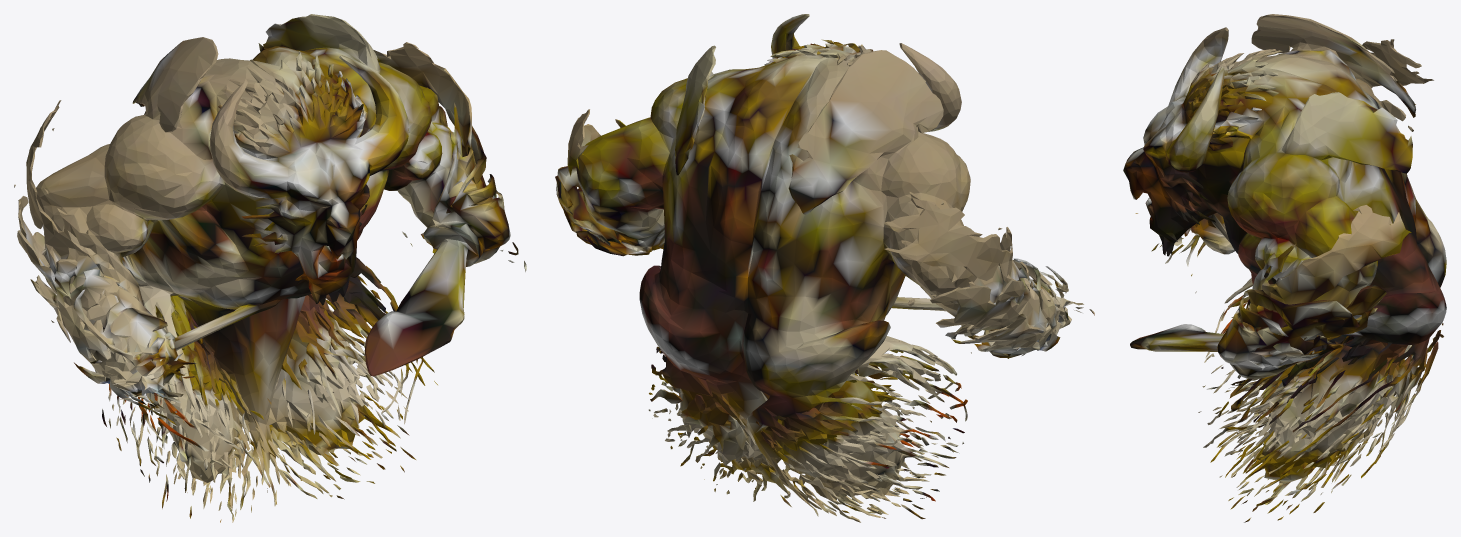
The model's file is poisonSlime.glb.
The picture shows the model from 3 angles, left to right: view 1: azimuth 30°, elevation 25°; view 2: azimuth 150°, elevation 25°; view 3: azimuth 270°, elevation 25°; orthographic projection. The views are drawn at different scales.
Parts seen in each view (by area): view 1: world; view 2: world; view 3: world.
Part boxes in pixels (x1,y1,x2,y2): world: [14, 14, 526, 522]; world: [555, 14, 1094, 522]; world: [1123, 14, 1446, 522].
Bounding box in the file's own units: 1 × 1 × 0.6564.
